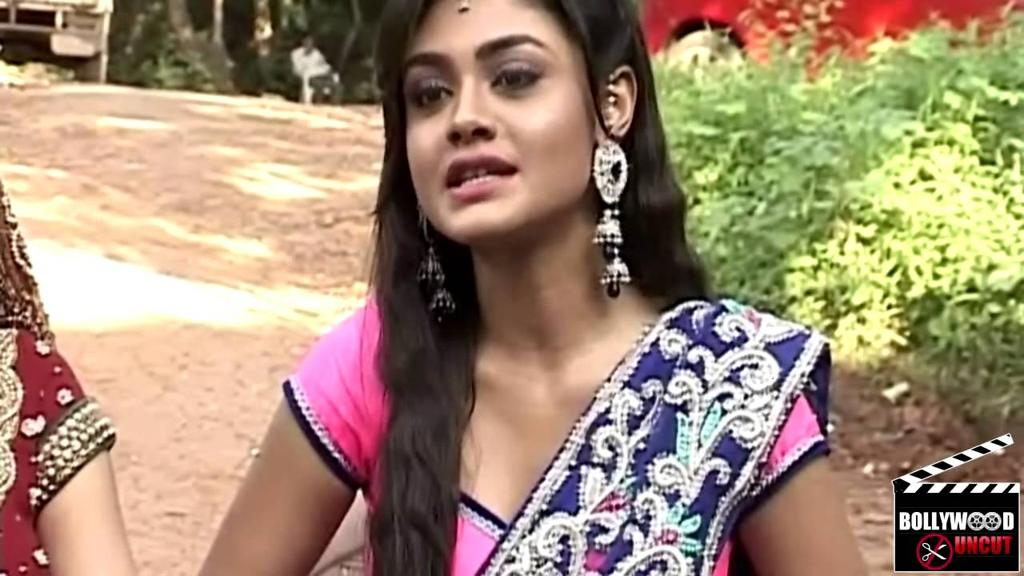face: (396, 0, 594, 232)
